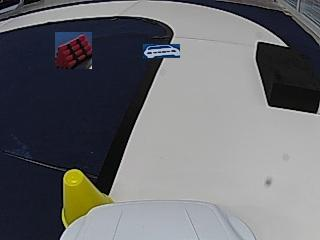block: (255, 40, 317, 111)
cone: (64, 169, 111, 205)
